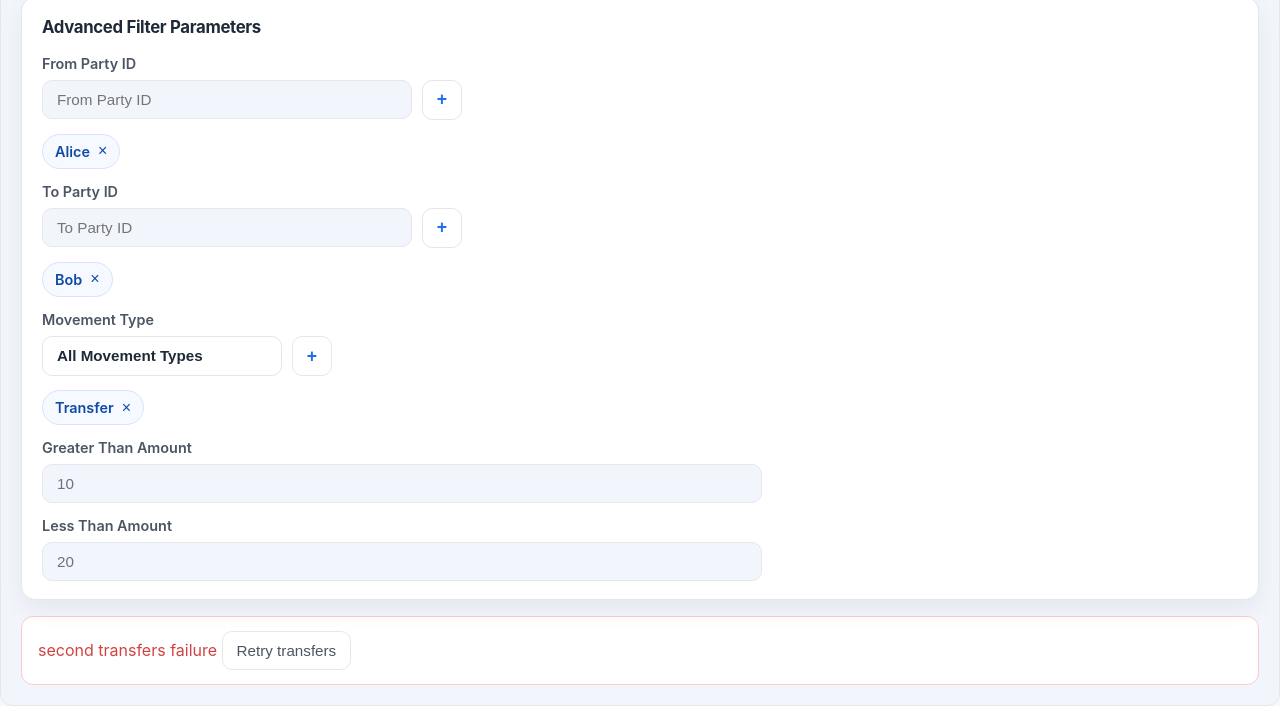
Test: TokenTransfersBrowser › retries once automatically, exposes a local Retry, and preserves the current query
This screenshot has width=1280, height=706.
(page scrolled)
Expected: the message shows "second transfers failure", [38,640,222,660]
Click the button "Retry transfers": point(286, 651) [222,631,351,670]
(page scrolled)
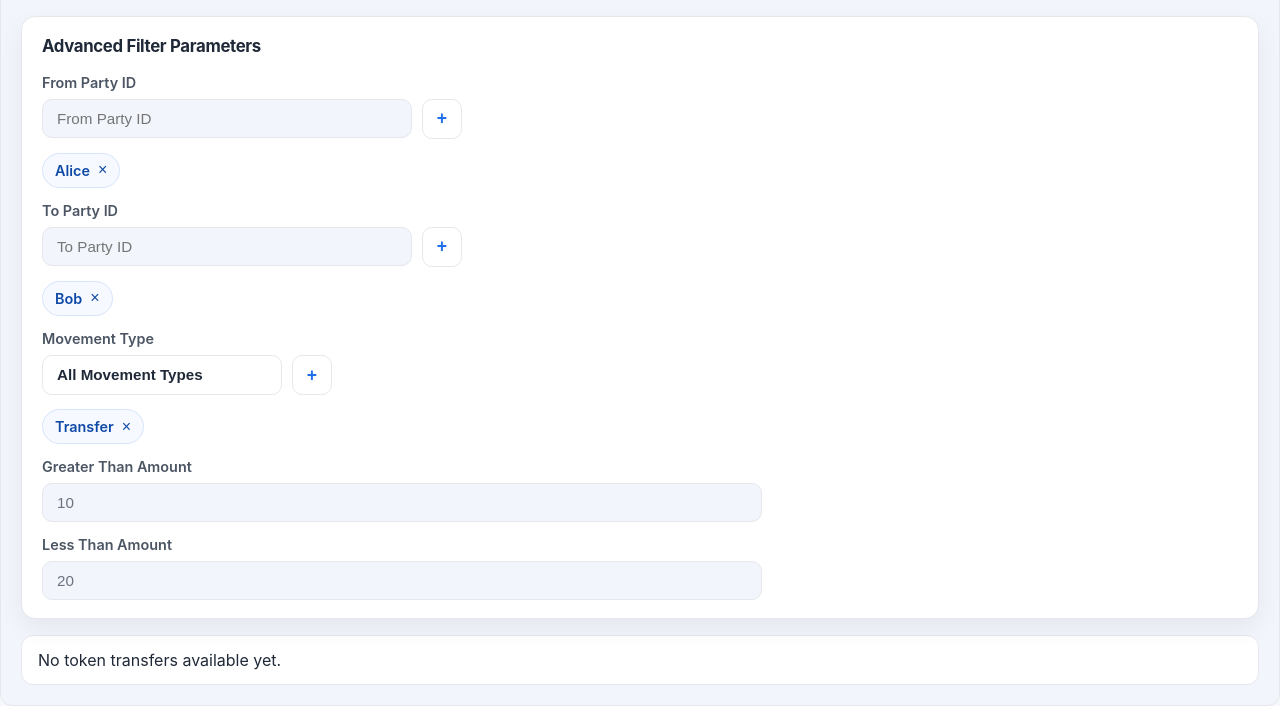
Now the text "No token transfers available yet." is shown, box [21,635,1259,685]
